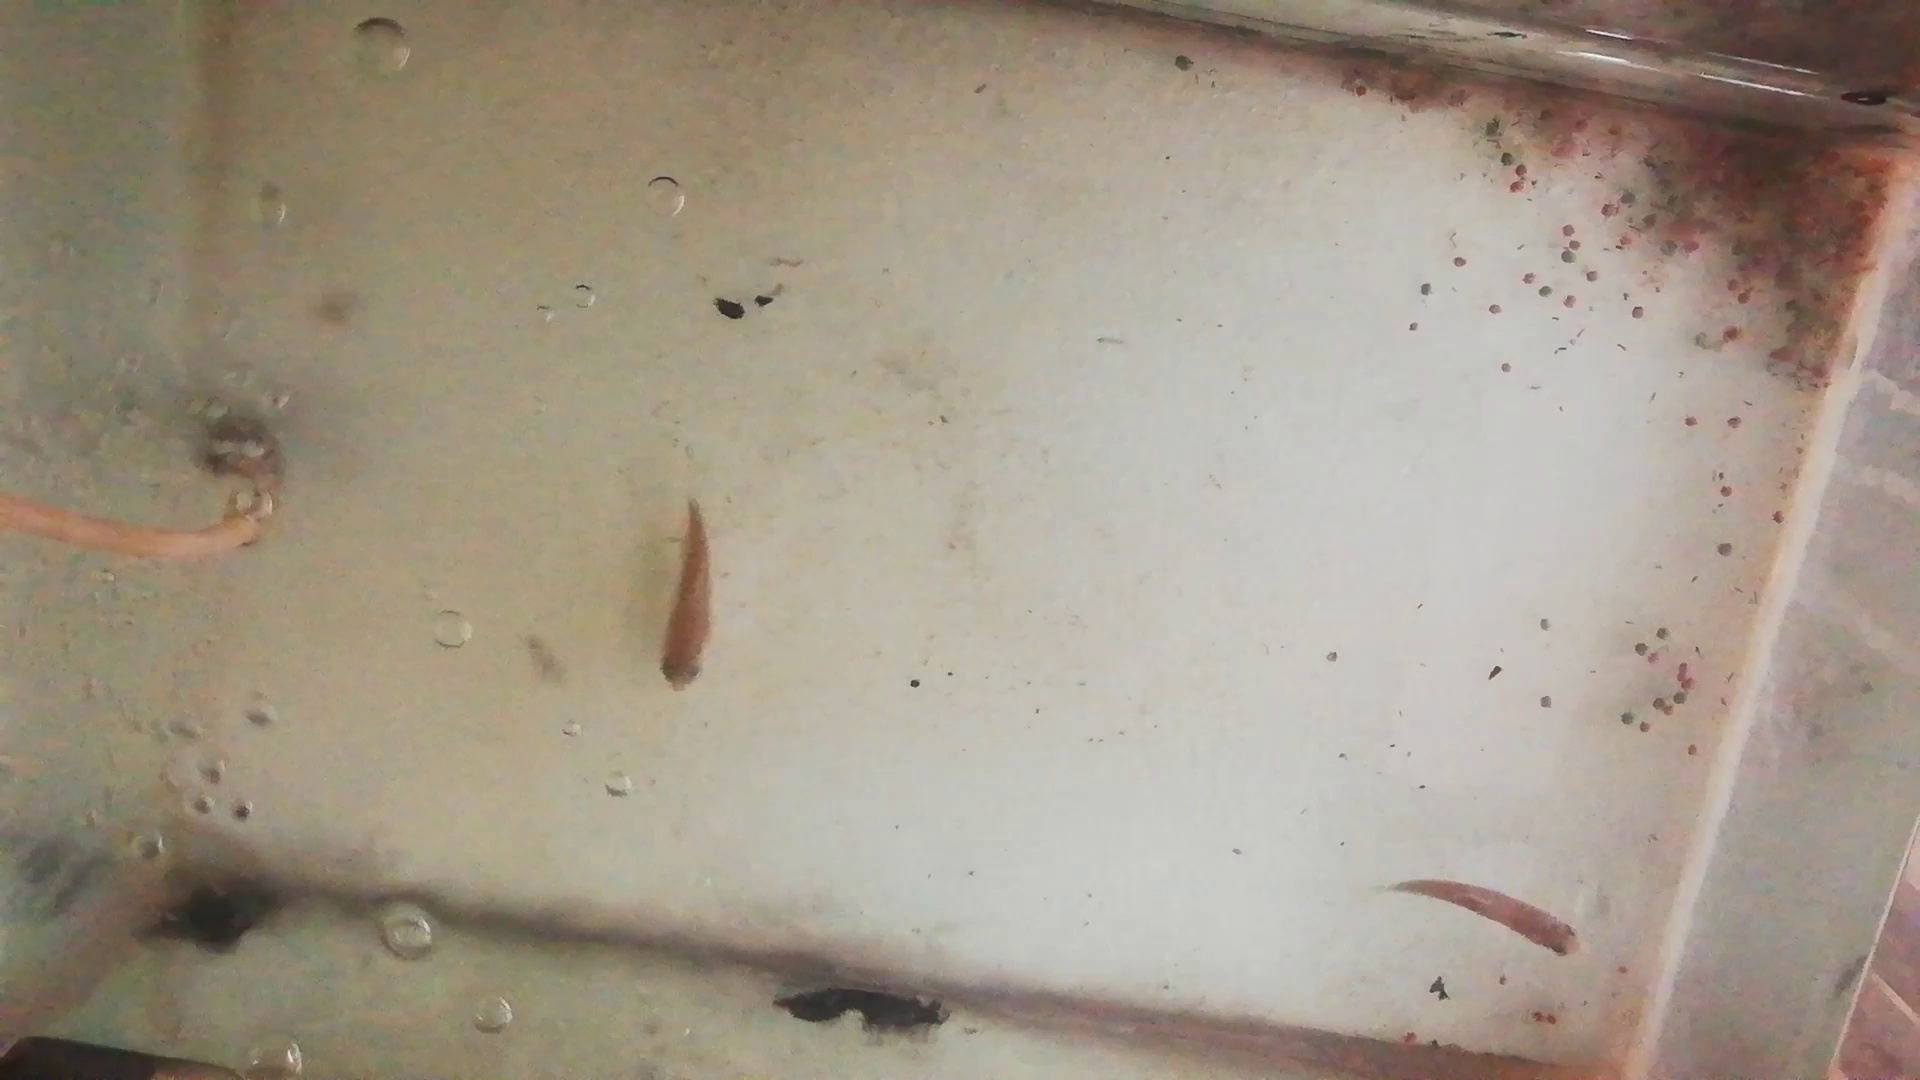fish: (1395, 874, 1581, 968), (655, 506, 719, 702)
